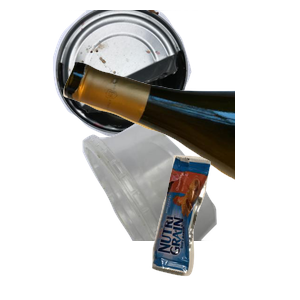glass: (60, 59, 300, 231)
metal: (50, 10, 262, 140)
plastic: (80, 120, 289, 300)
trash: (149, 152, 300, 300)
